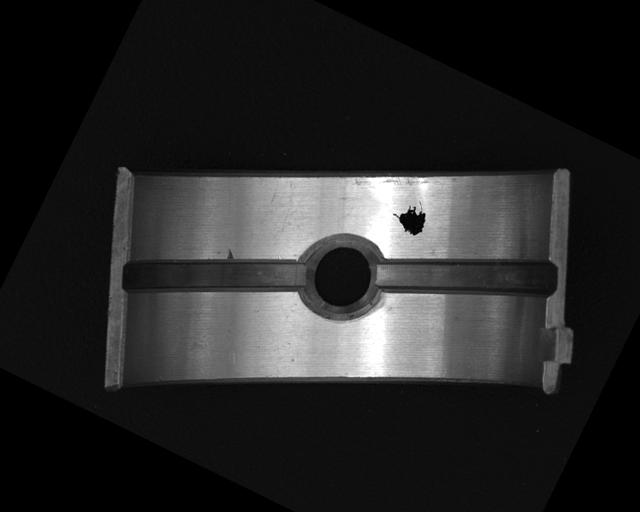blot: (387, 191, 435, 240)
bruise: (223, 247, 238, 262)
gap: (116, 192, 311, 357), (372, 195, 563, 353)
hole: (289, 224, 391, 329)
